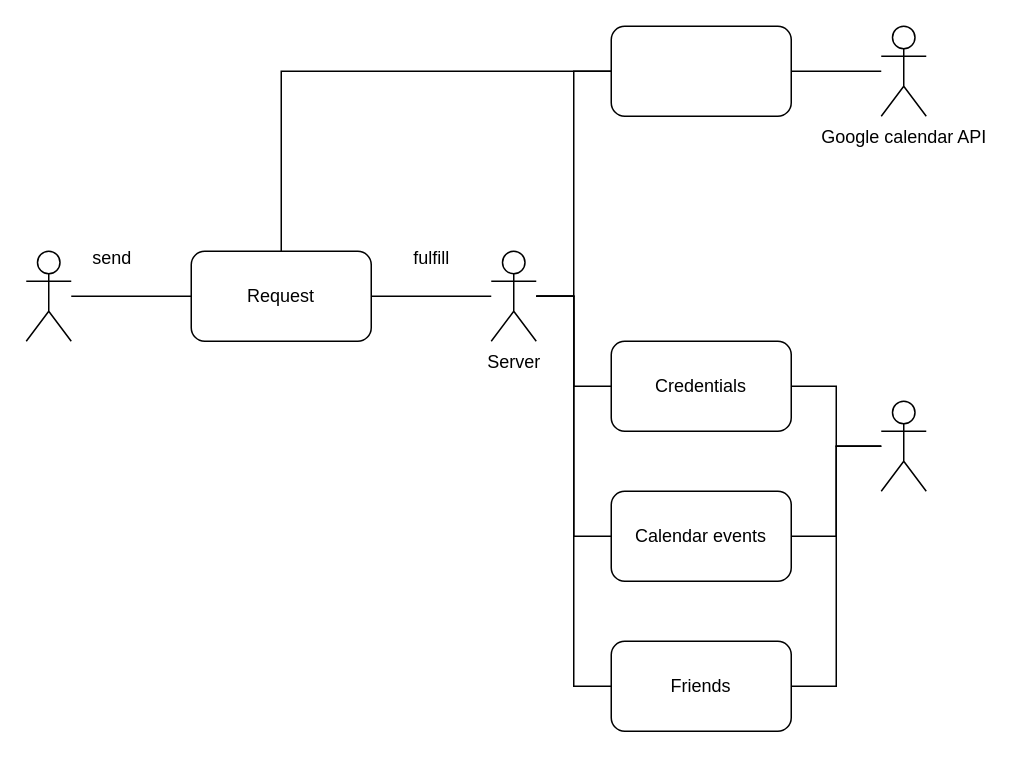
This 1013x758 diagram has some shape labels left out. The shapes that lost their labels are listed below. From the top down, each one's centre as x and y in pixels, then its label:
At [700,70]: "Google calendar events".
At [48,295]: "Client".
At [903,445]: "Database".
